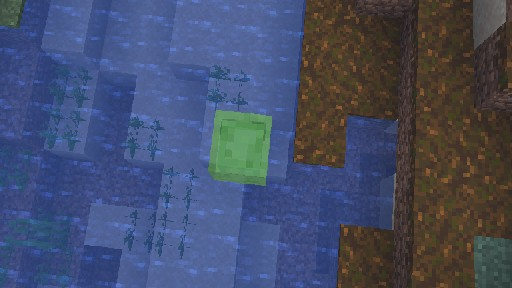slime: (207, 109, 272, 185)
